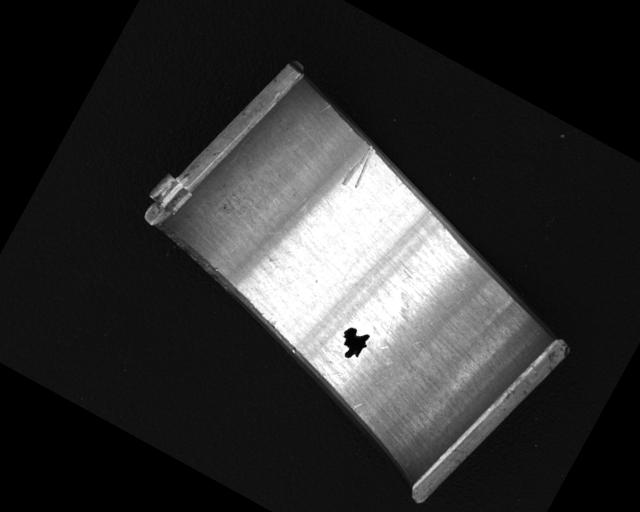blot: (332, 321, 374, 365)
nick: (339, 140, 379, 192), (317, 100, 332, 117)
